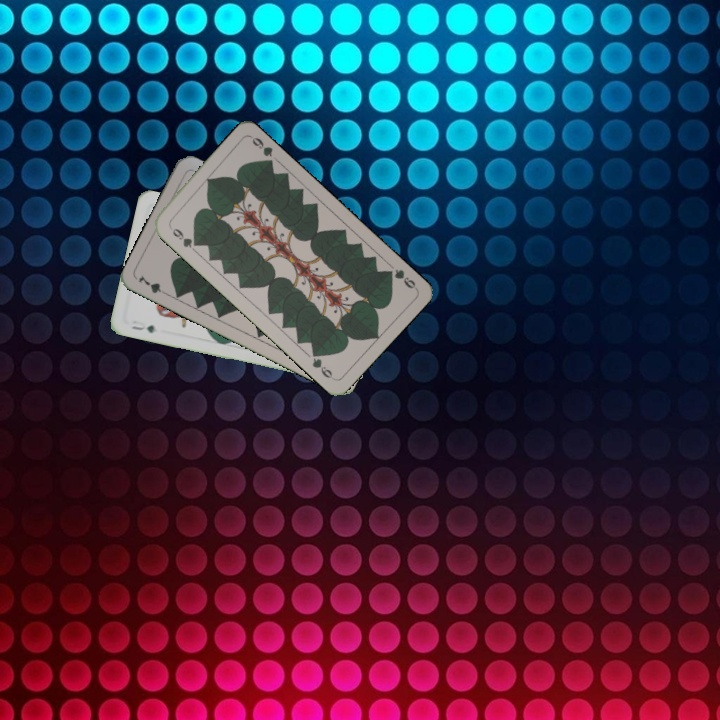G7: (134, 271, 172, 299)
G9: (165, 222, 201, 254), (381, 265, 419, 291)
GU: (128, 321, 157, 336)
